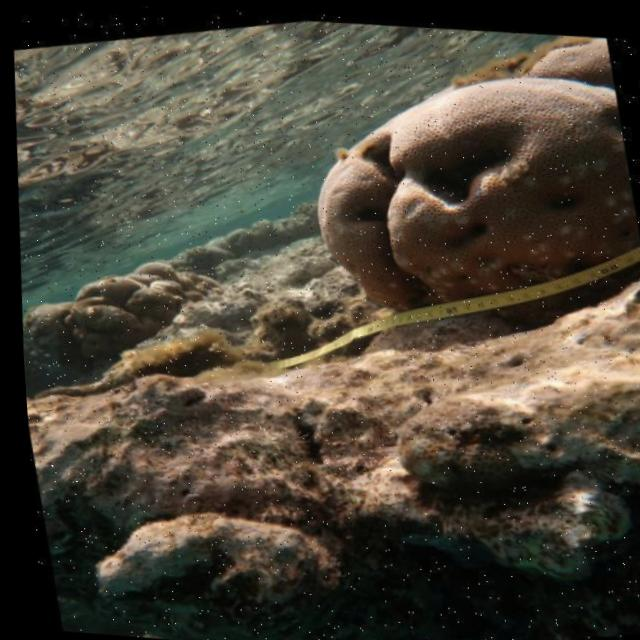Healthy Coral: (278, 38, 640, 357), (521, 26, 613, 85)
